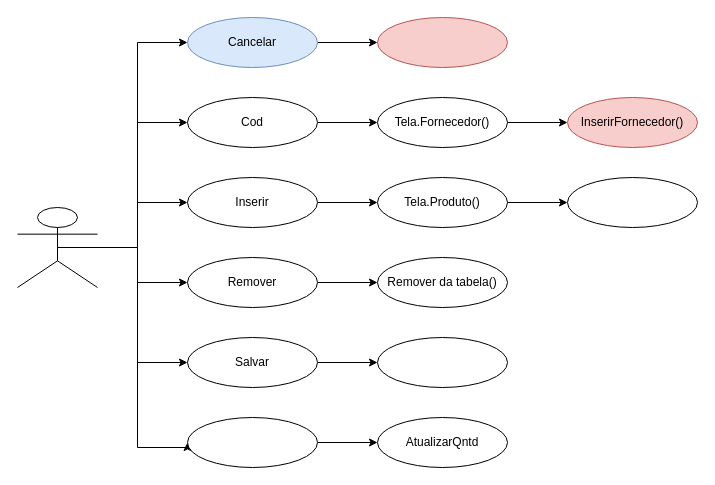
The diagram is 715 pixels wide and 485 high, and some of its shapes have lost their labels. Each missing label, with the centre of its shape:
"Actor" goes at (x=57, y=247).
"Comprar" goes at (x=252, y=442).
"InserirBD" goes at (x=442, y=362).
"InserirTabela()" goes at (x=632, y=202).
"Limpar() Dispose()" goes at (x=442, y=42).
